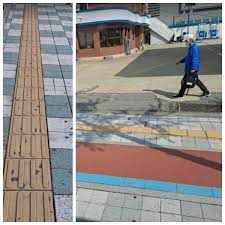guide_blocks: (4, 95, 54, 221), (15, 4, 43, 95), (78, 124, 221, 140)
